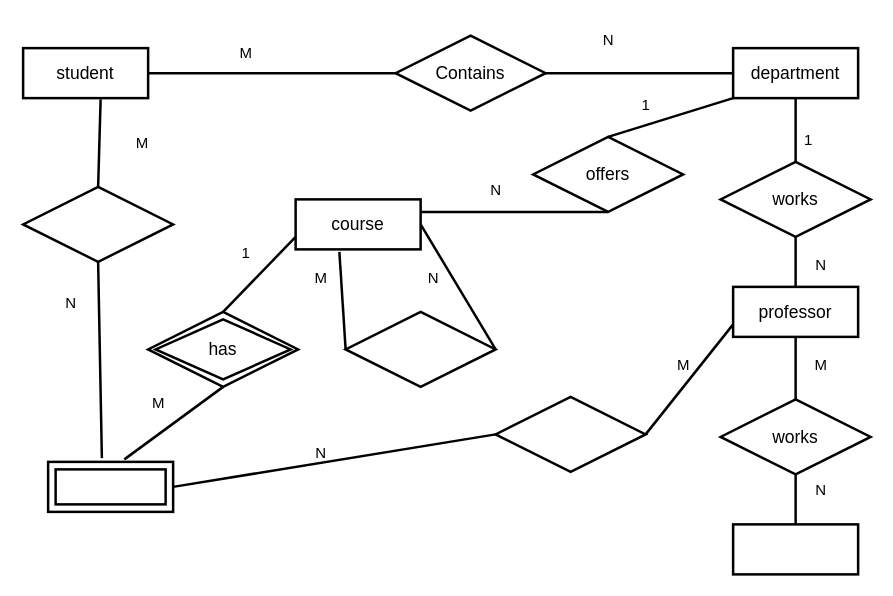
This 893x596 diagram has some shape labels left out. The centre of each missing label's shape, as x and y in pixels:
"enrolls" goes at [97,223].
"pre-requisite of" goes at [420,349].
"project" goes at [795,548].
"section" goes at [110,486].
"teaches" goes at [570,433].
